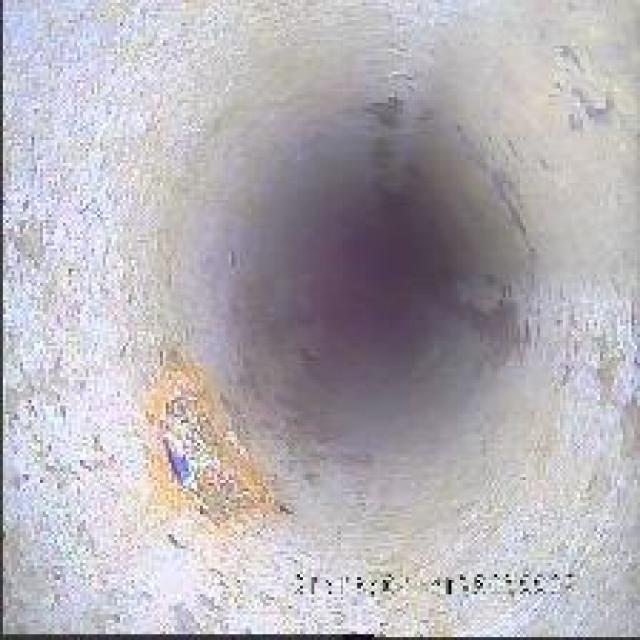ferrule: (140, 357, 260, 523)
